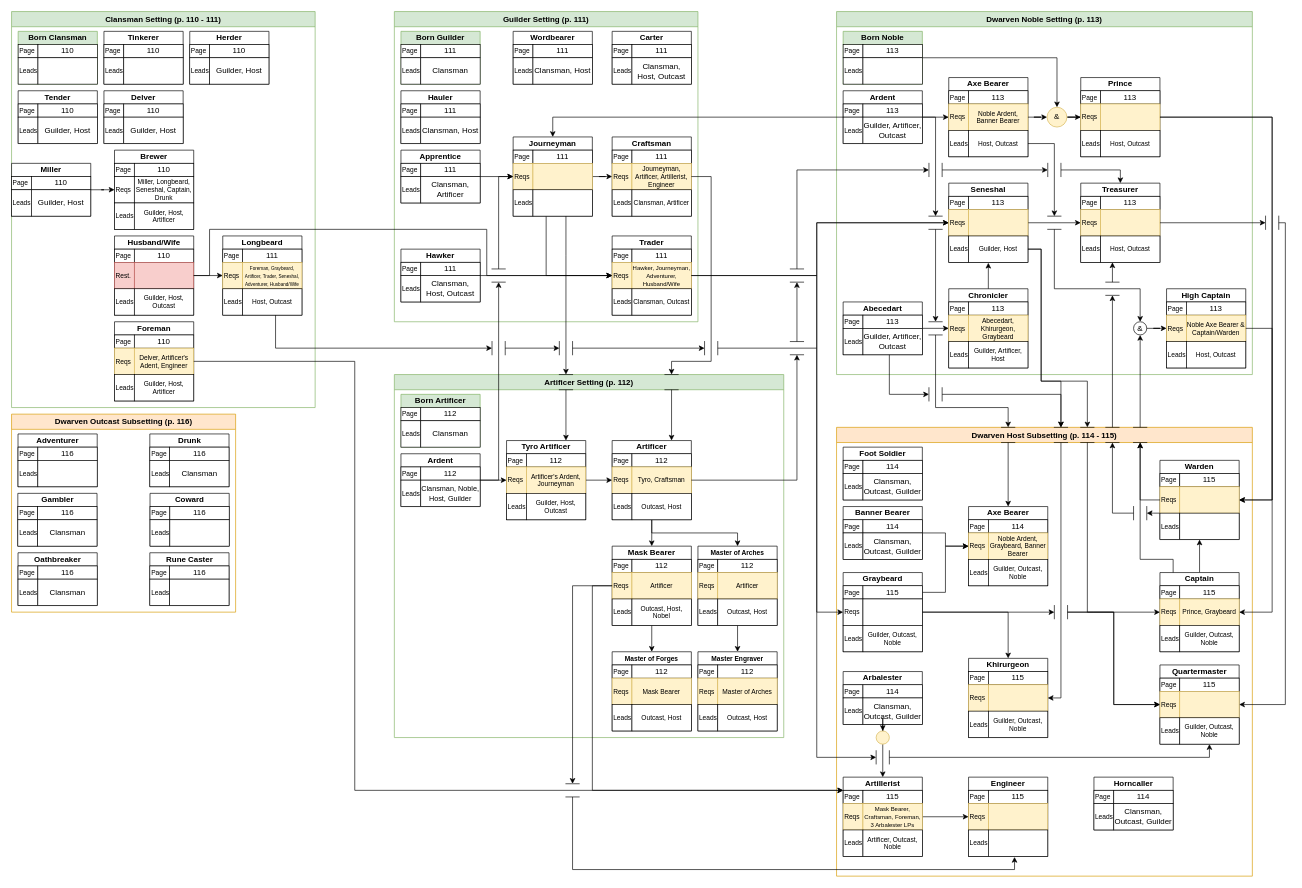
The diagram is 1302 pixels wide and 888 high, and some of its shapes have lost their labels. The shapes that lost their labels are listed below. From the top down, each one's centre as x and y in pixels, then its label:
pixel 67 70: Guilder
pixel 153 70: Guilder, Outcast
pixel 892 70: Guilder, Artificer
pixel 1130 116: Born Noble & Noble Axe Bearer
pixel 562 176: Apprentice, any Ardent LP
pixel 562 202: Clansman, Artificer, Host
pixel 998 222: Trader, Longbeard, Quartermaster, Chronicler, Khirgurgeon, Graybeard
pixel 1130 222: Seneshal, Artificer, Warden
pixel 164 275: cannot be 2nd lifepath
pixel 67 473: Clansman, Guilder
pixel 1209 499: Prince, Captain, High Captain
pixel 1209 526: Outcast, Noble
pixel 199 592: any except Host
pixel 892 611: Axe Bearer, Longbeard, 3 Host LPs
pixel 1018 697: Abecedart, Seneshal, Graybeard
pixel 1209 704: Seneshal, Treasurer, Trader, Graybeard
pixel 882 737: 3x
pixel 1018 816: Artillerist, Mask Bearer
pixel 1018 842: Artificer, Noble
